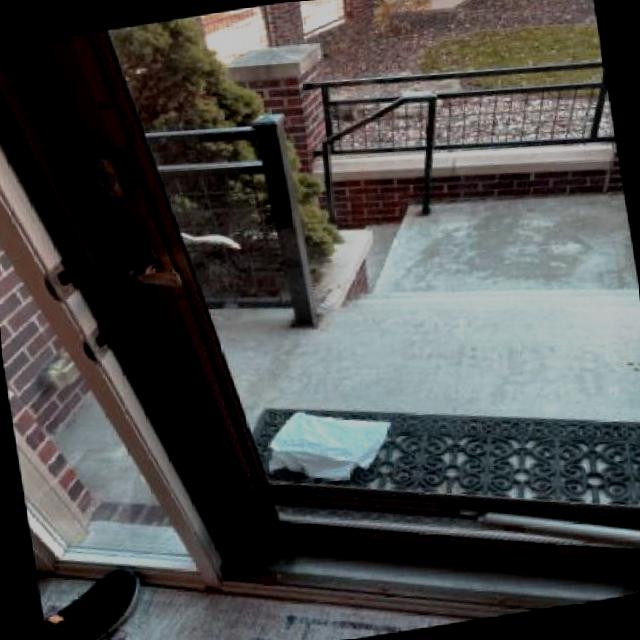Box: (261, 398, 398, 490)
